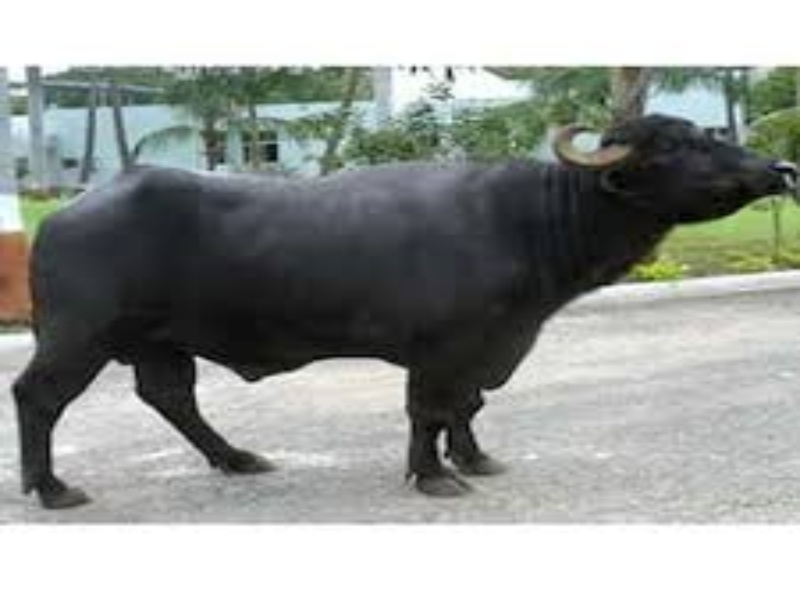buffalo: (8, 99, 790, 498)
